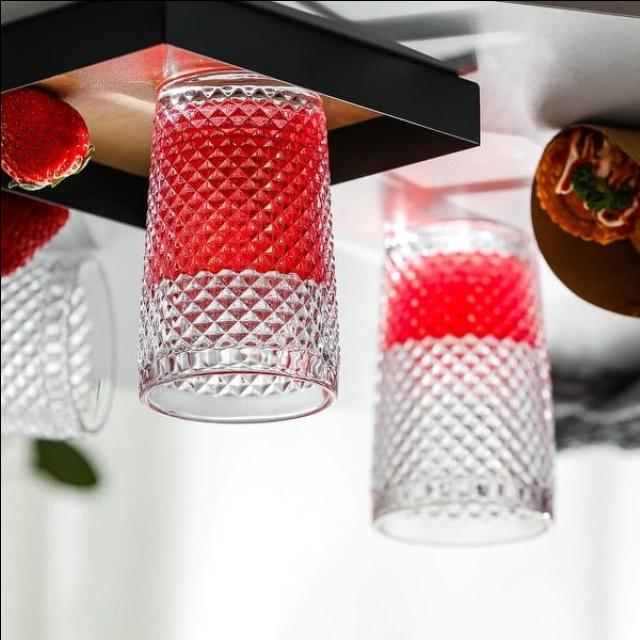glass: (97, 20, 348, 467), (342, 190, 551, 551)
